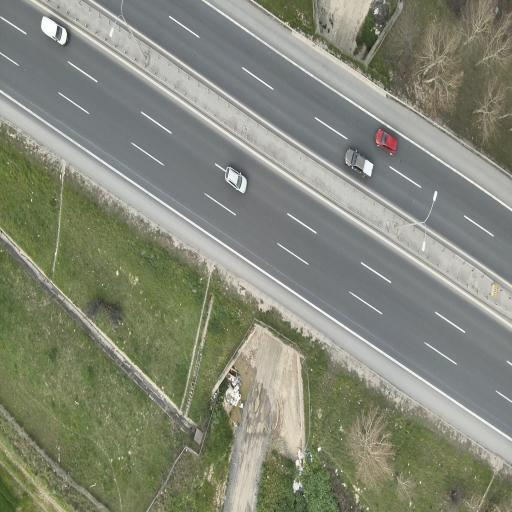car: (345, 149, 373, 178), (42, 17, 67, 45), (225, 167, 247, 192), (376, 129, 397, 154)
